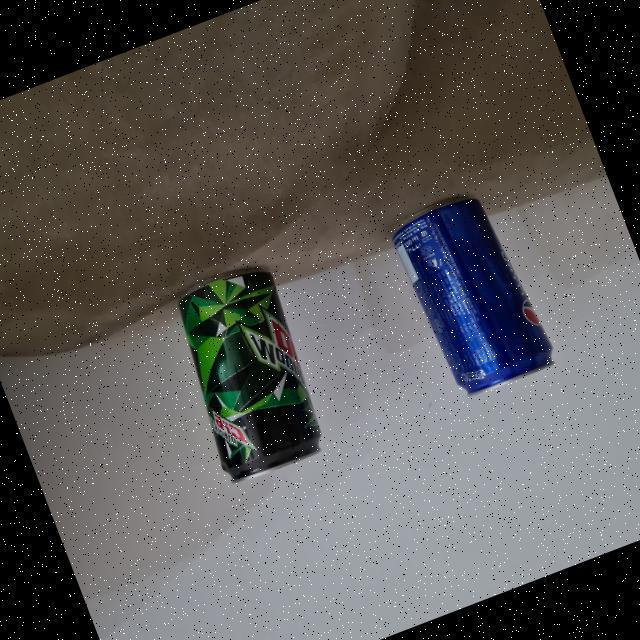can: (149, 250, 353, 497), (382, 177, 572, 410)
